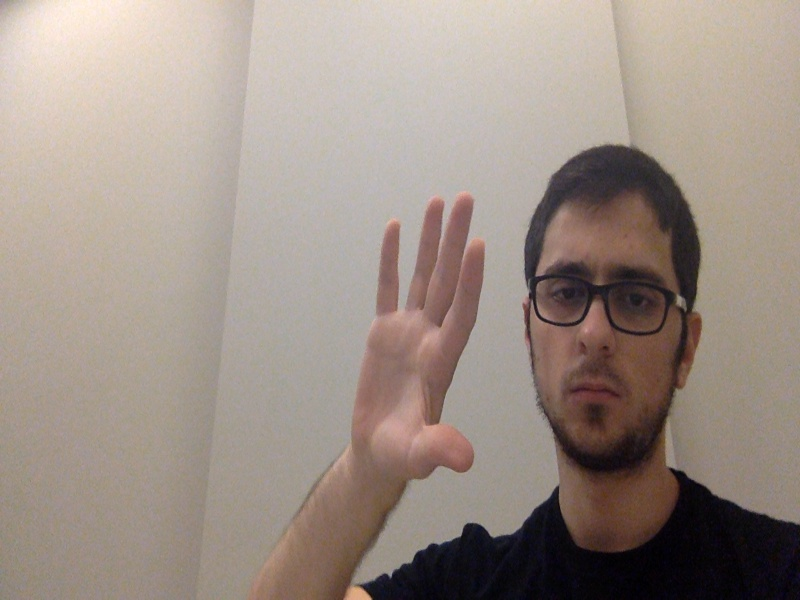5-hand: (348, 191, 491, 488)
